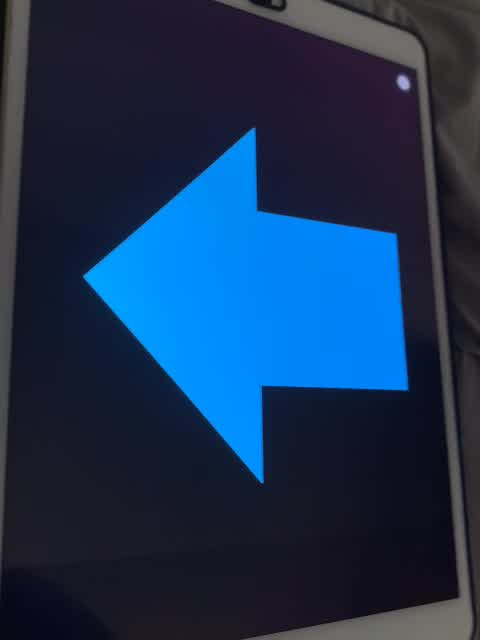left: (77, 109, 411, 490)
